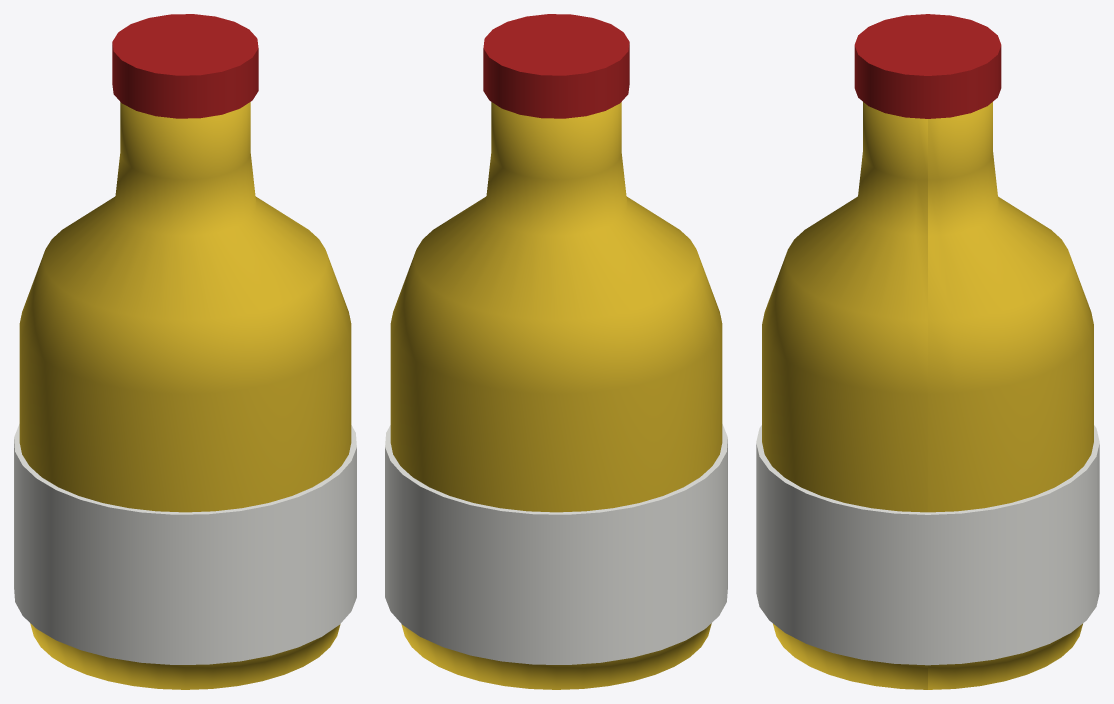
The picture shows the model from 3 angles, left to right: view 1: azimuth 30°, elevation 25°; view 2: azimuth 150°, elevation 25°; view 3: azimuth 270°, elevation 25°; orthographic projection.
Visible parts, largest first — view 1: Líquido de frenos DOT-4; view 2: Líquido de frenos DOT-4; view 3: Líquido de frenos DOT-4.
Boxes of the visible parts, box(x1,y1,x2,y2) form: Líquido de frenos DOT-4: box(14, 14, 356, 689); Líquido de frenos DOT-4: box(385, 14, 727, 689); Líquido de frenos DOT-4: box(756, 14, 1099, 689).
Size of the model in its own units: 0.537 by 1 by 0.537.
